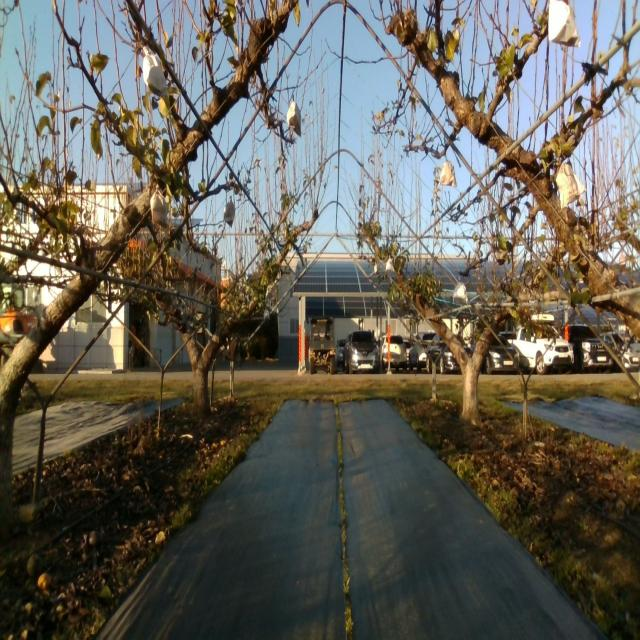pearbags: (547, 0, 582, 48), (142, 47, 169, 98), (556, 162, 584, 210), (150, 185, 168, 227), (287, 94, 302, 139), (439, 155, 458, 186), (452, 276, 468, 304), (223, 196, 235, 228)
